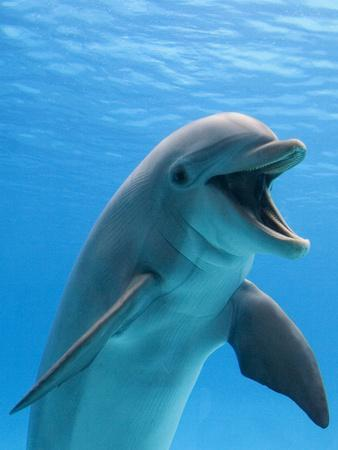dolphin: (8, 93, 332, 450)
